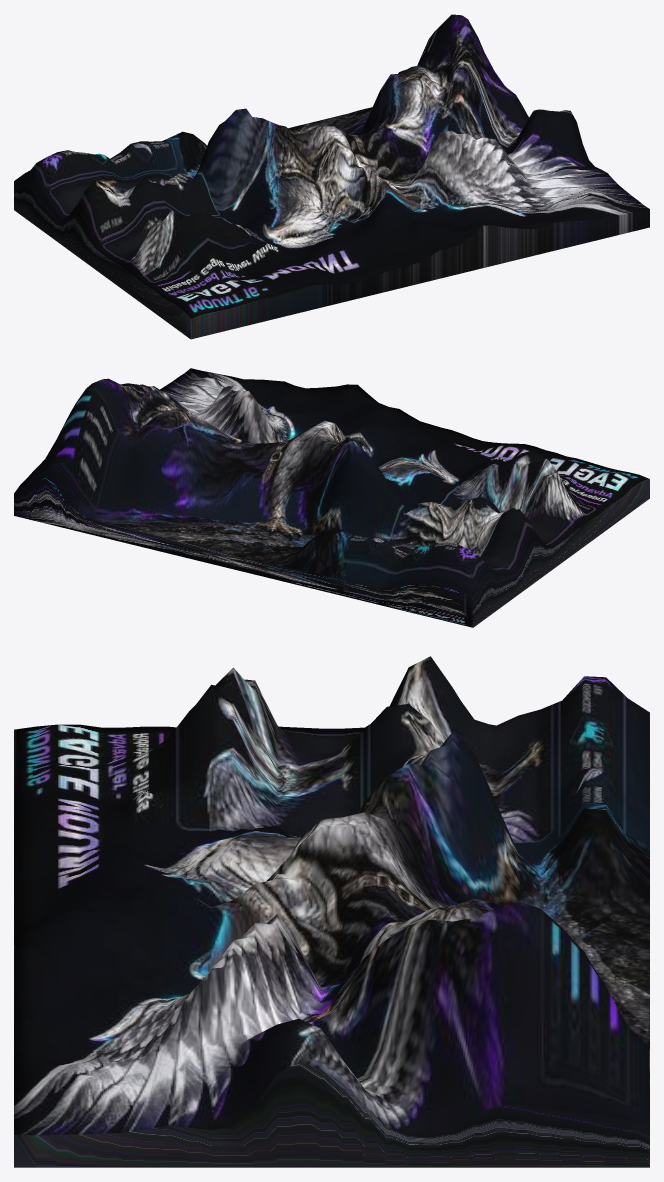
File: MOUNT_16_Eagle_Mount.glb
3 renders of one model, top to bottom at view 1: azimuth 30°, elevation 25°; view 2: azimuth 150°, elevation 25°; view 3: azimuth 270°, elevation 25°, orthographic. The views are drawn at different scales.
Parts seen in each view (by area): view 1: MOUNT_16_Eagle_Mount; view 2: MOUNT_16_Eagle_Mount; view 3: MOUNT_16_Eagle_Mount.
Part boxes in pixels (x1=…): MOUNT_16_Eagle_Mount: x1=14, y1=14, x2=649, y2=339; MOUNT_16_Eagle_Mount: x1=14, y1=368, x2=649, y2=627; MOUNT_16_Eagle_Mount: x1=14, y1=656, x2=649, y2=1167.
Bounding box in the file's own units: 2 × 0.51 × 1.33.
Materials: 1 (1 with a texture image).
